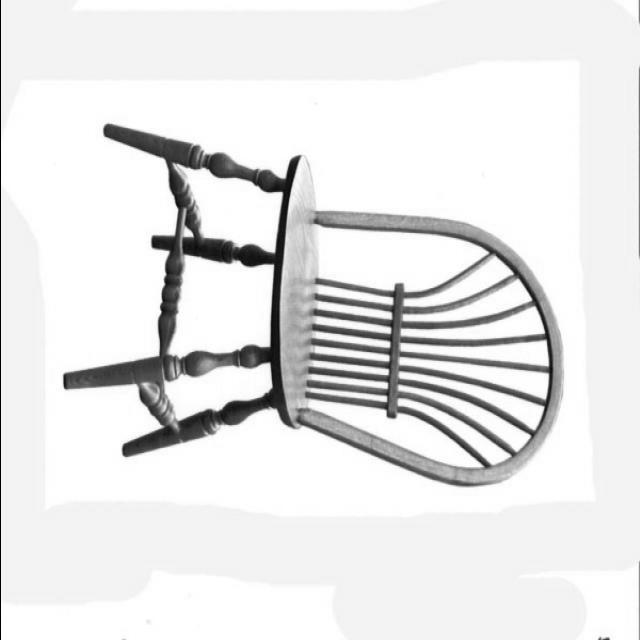chair: (61, 124, 564, 488)
